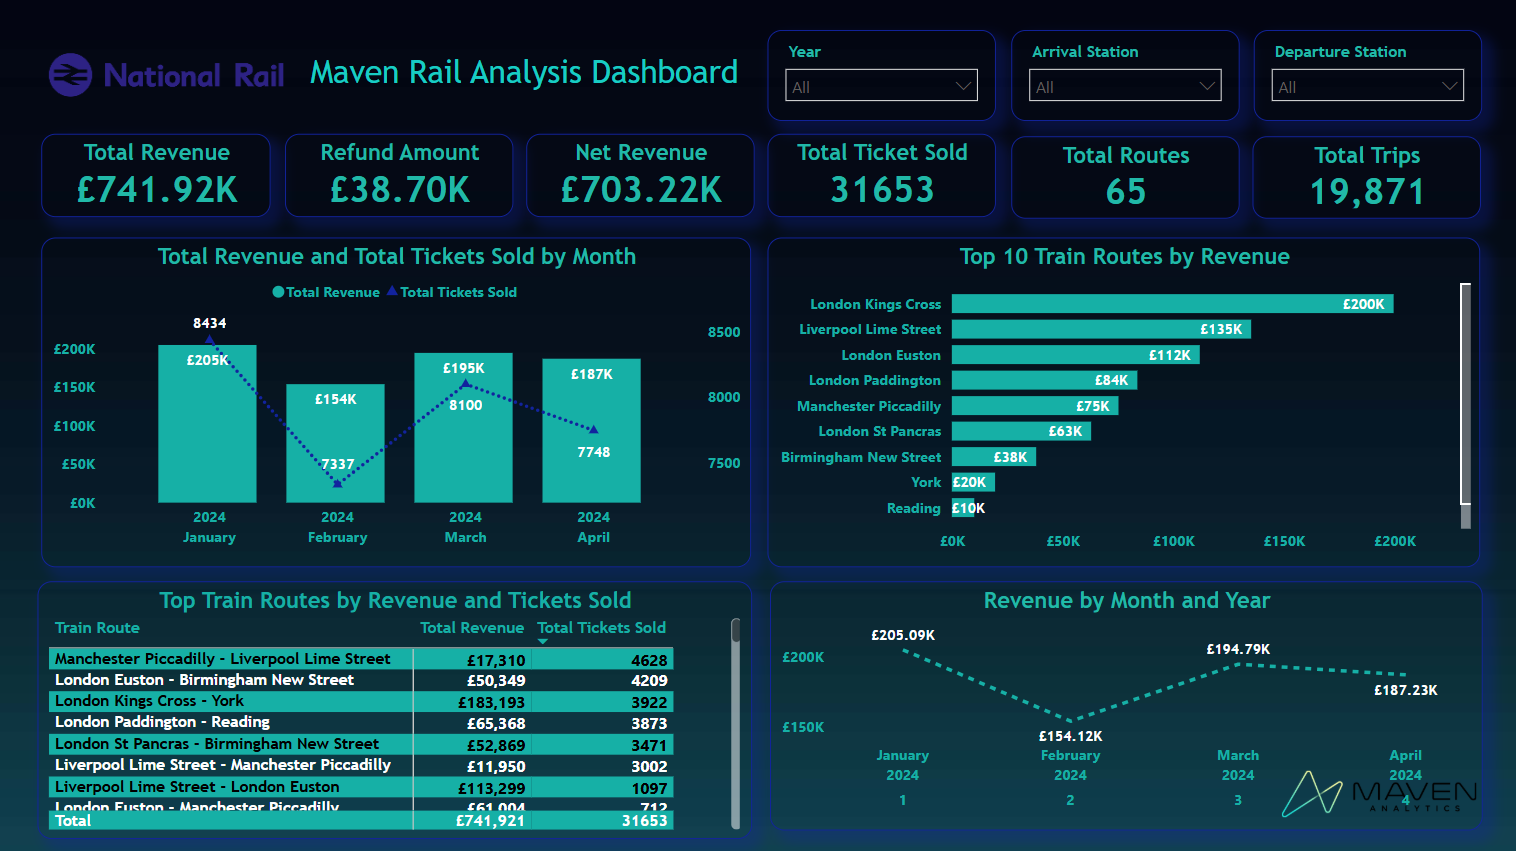

This screenshot's page, from the dashboard's own definition file:
{"tool":"powerbi","page":{"name":"Map Visual","canvas":[1280,720],"ordinal":3},"visuals":[{"type":"map","title":"Net Revenue by Destination","fields":{"Category":["railway.Arrival Destination"],"Size":["railway.Net Revenue"]},"box":[27,207.2,1233.6,485.6],"z":0},{"type":"card","title":"Total Revenue","fields":{"Values":["railway.Total Revenue"]},"box":[35.2,113.3,193.9,70.5],"z":1000},{"type":"card","title":"Refund Amount","fields":{"Values":["railway.Refund Amount"]},"box":[240.4,113.3,192.6,70.5],"z":2000},{"type":"card","title":"Net Revenue","fields":{"Values":["railway.Net Revenue"]},"box":[444.4,113.3,192.6,70.5],"z":3000},{"type":"textbox","box":[250.5,40.3,385.2,46.6],"z":4000},{"type":"image","box":[31.5,40.3,219,46.6],"z":5000},{"type":"card","title":"Total Ticket Sold","fields":{"Values":["railway.Total Tickets Sold"]},"box":[648.3,113.3,192.6,70.5],"z":6000},{"type":"card","title":"Total Routes","fields":{"Values":["CountNonNull(Total Routes.No of routes)"]},"box":[853.5,114.6,192.6,69.2],"z":7000},{"type":"card","title":"Total Trips","fields":{"Values":["CountNonNull(Total Trips.Trips)"]},"box":[1057.4,114.6,192.6,69.2],"z":8000},{"type":"slicer","fields":{"Values":["railway.Date of Purchase Hierarchy.Year"]},"box":[648.3,25.2,192.6,76.8],"z":9000},{"type":"slicer","fields":{"Values":["railway.Arrival Destination"]},"box":[853.5,25.2,192.6,76.8],"z":10000},{"type":"slicer","fields":{"Values":["railway.Departure Station"]},"box":[1058.7,25.2,192.6,76.8],"z":11000}]}

Visuals, with their boxes in screenshot pixels (x1, y1, x2, y2), scaled from the page's 1280x720 canvas onto the 1516x851 screenshot:
"Net Revenue by Destination" map: bbox=(32, 245, 1493, 819)
"Total Revenue" card: bbox=(42, 134, 271, 217)
"Refund Amount" card: bbox=(285, 134, 513, 217)
"Net Revenue" card: bbox=(526, 134, 754, 217)
textbox: bbox=(297, 48, 753, 103)
image: bbox=(37, 48, 297, 103)
"Total Ticket Sold" card: bbox=(768, 134, 996, 217)
"Total Routes" card: bbox=(1011, 135, 1239, 217)
"Total Trips" card: bbox=(1252, 135, 1480, 217)
slicer - railway.Date of Purchase Hierarchy.Year: bbox=(768, 30, 996, 121)
slicer - railway.Arrival Destination: bbox=(1011, 30, 1239, 121)
slicer - railway.Departure Station: bbox=(1254, 30, 1482, 121)
